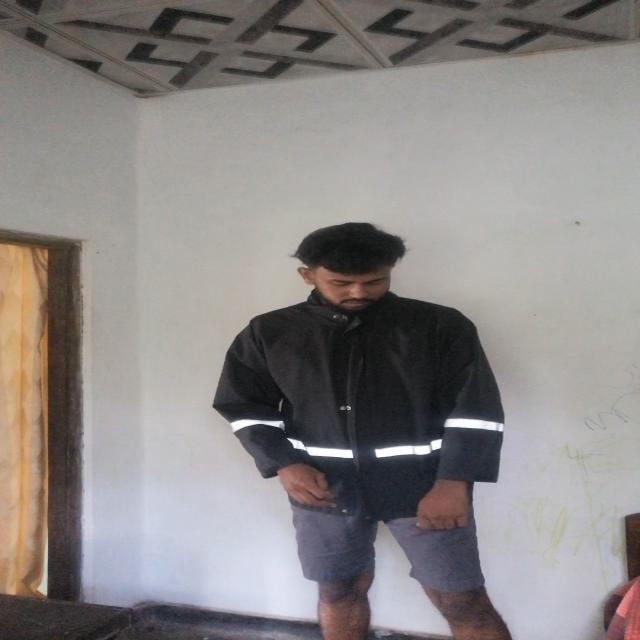Jacket_Wearer: (220, 288, 540, 498)
